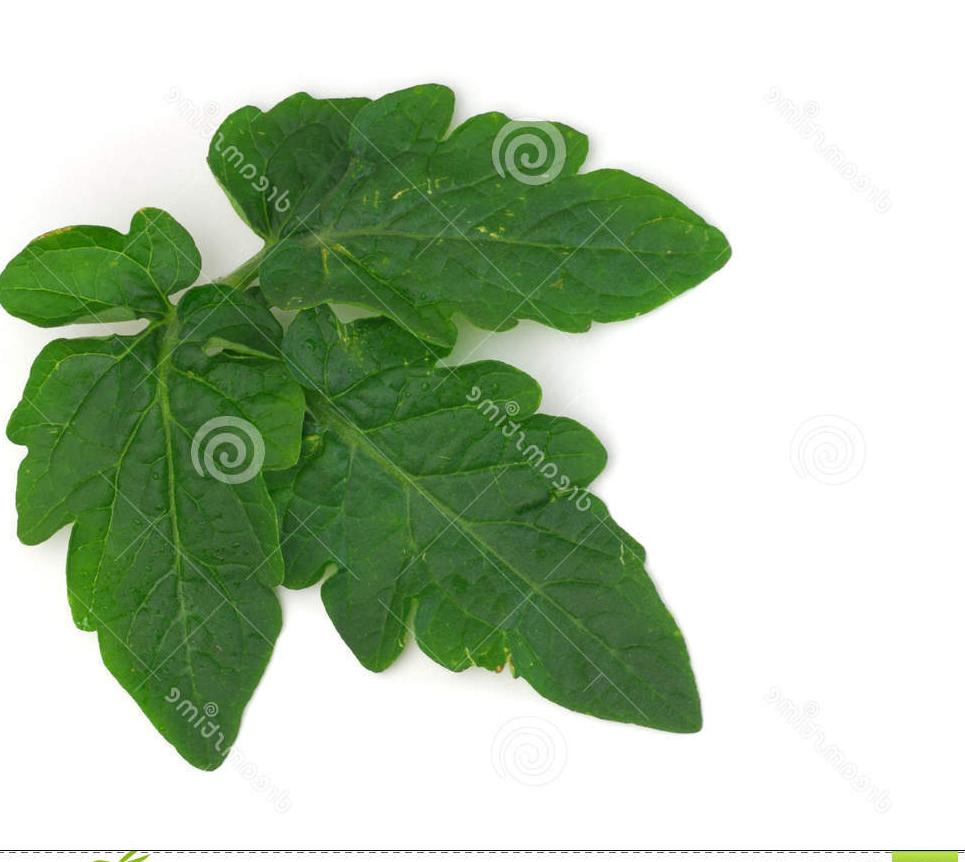Tomato leaf: (194, 269, 702, 768), (108, 61, 662, 377), (6, 306, 335, 802)
